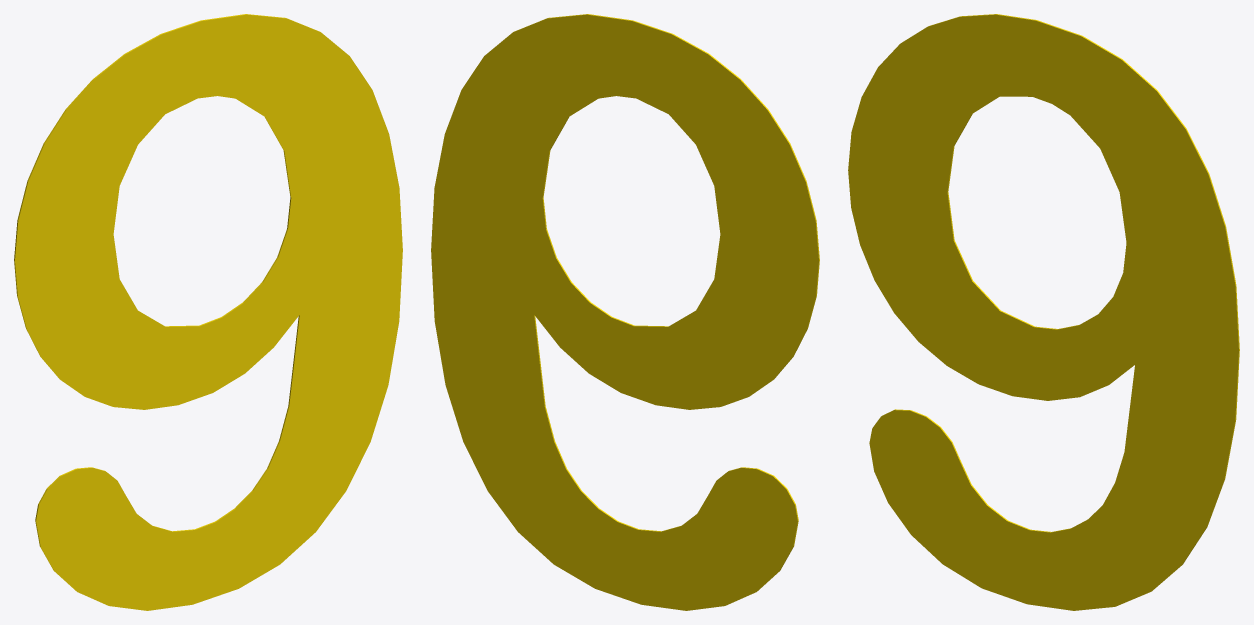
3 views of the same model, side by side, from view 1: azimuth 30°, elevation 25°; view 2: azimuth 150°, elevation 25°; view 3: azimuth 330°, elevation 25° (orthographic).
Parts seen in each view (by area): view 1: group_0; view 2: group_0; view 3: group_0.
Part boxes in pixels (x1=…): group_0: x1=14, y1=14, x2=402, y2=610; group_0: x1=431, y1=14, x2=819, y2=610; group_0: x1=848, y1=14, x2=1239, y2=610.
Size of the model in its own units: 0.7556 by 1.08 by 0.003.
